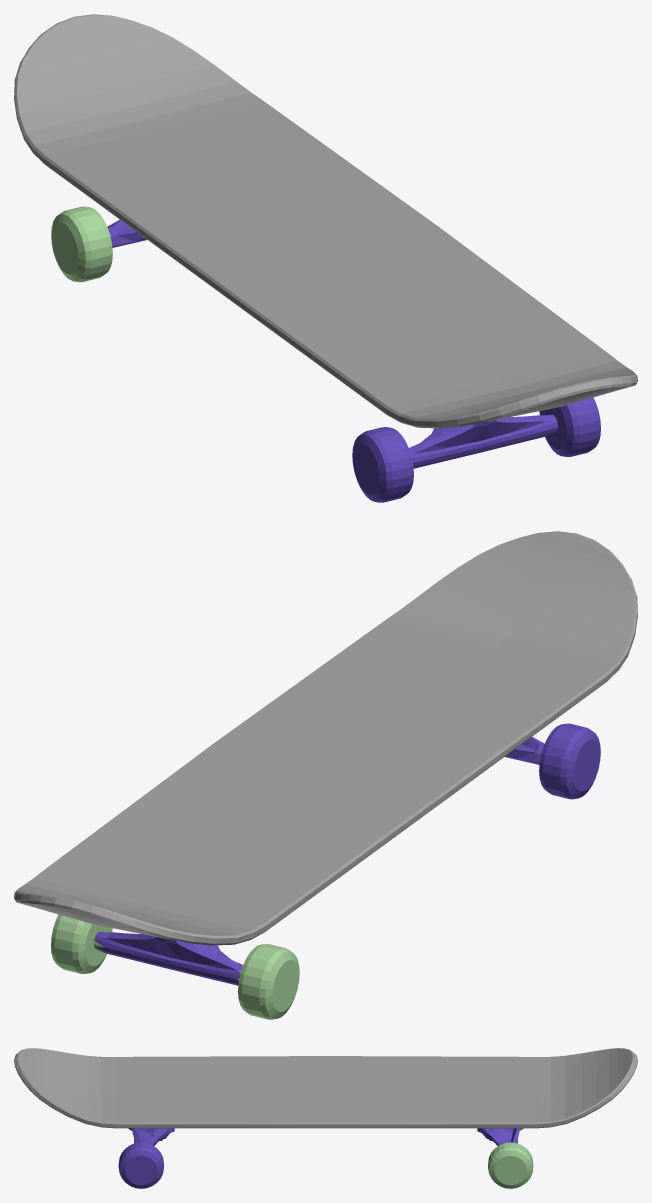
Rendered from old.glb.
3 views of the same model, one above another, from view 1: azimuth 30°, elevation 25°; view 2: azimuth 150°, elevation 25°; view 3: azimuth 270°, elevation 25° (orthographic). The views are drawn at different scales.
Parts seen in each view (by area): view 1: world; view 2: world; view 3: world.
Boxes of the visible parts, x1,y1,x2,y2 form: world: [14, 14, 637, 502]; world: [14, 531, 637, 1019]; world: [14, 1048, 637, 1188].
Bounding box in the file's own units: 0.2563 × 0.1781 × 1.
